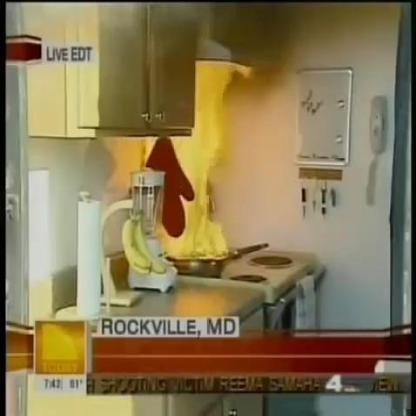fire: (160, 90, 235, 266)
